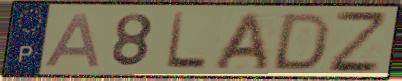8: (111, 12, 156, 69)
A: (210, 11, 272, 72), (41, 11, 104, 69)
D: (268, 11, 334, 72)
L: (163, 10, 210, 71)
Z: (326, 9, 388, 75)
